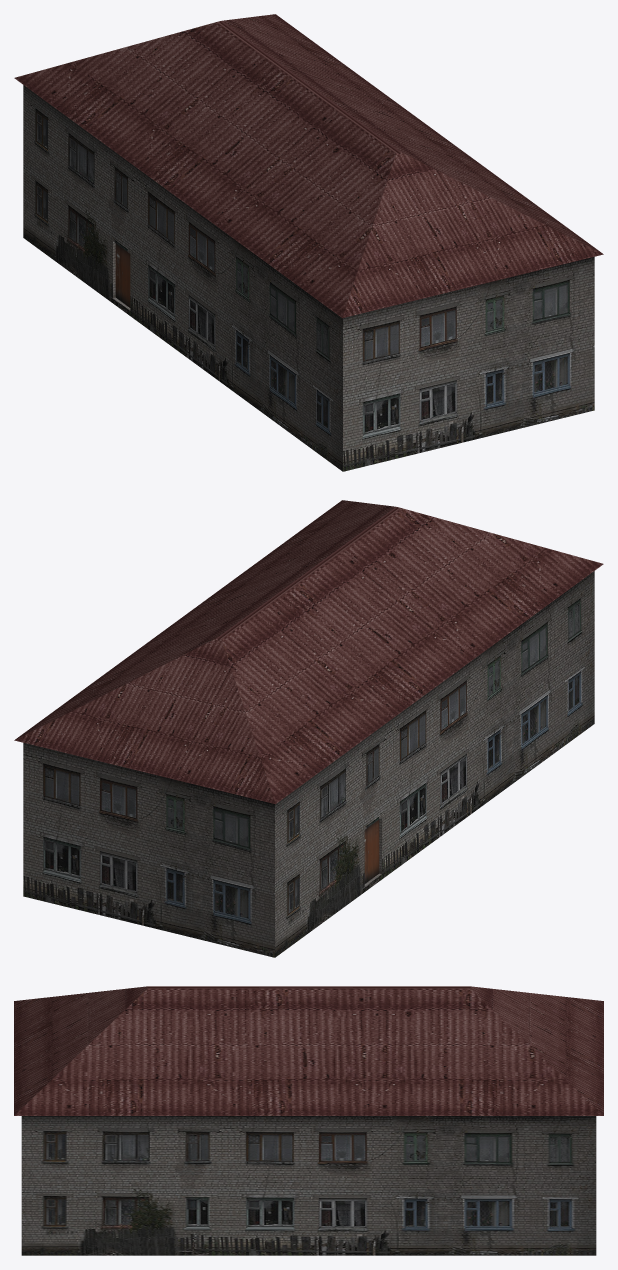
Rendered from Dhz_zsfz_05.FBX.
3 renders of one model, top to bottom at view 1: azimuth 30°, elevation 25°; view 2: azimuth 150°, elevation 25°; view 3: azimuth 270°, elevation 25°, orthographic. The views are drawn at different scales.
Parts seen in each view (by area): view 1: Dhz_zsfz_05; view 2: Dhz_zsfz_05; view 3: Dhz_zsfz_05.
Boxes of the visible parts, x1=… form: Dhz_zsfz_05: x1=14, y1=14, x2=603, y2=471; Dhz_zsfz_05: x1=14, y1=500, x2=603, y2=957; Dhz_zsfz_05: x1=14, y1=986, x2=603, y2=1255.
Bounding box in the file's own units: 10.4 × 9 × 22.6.
